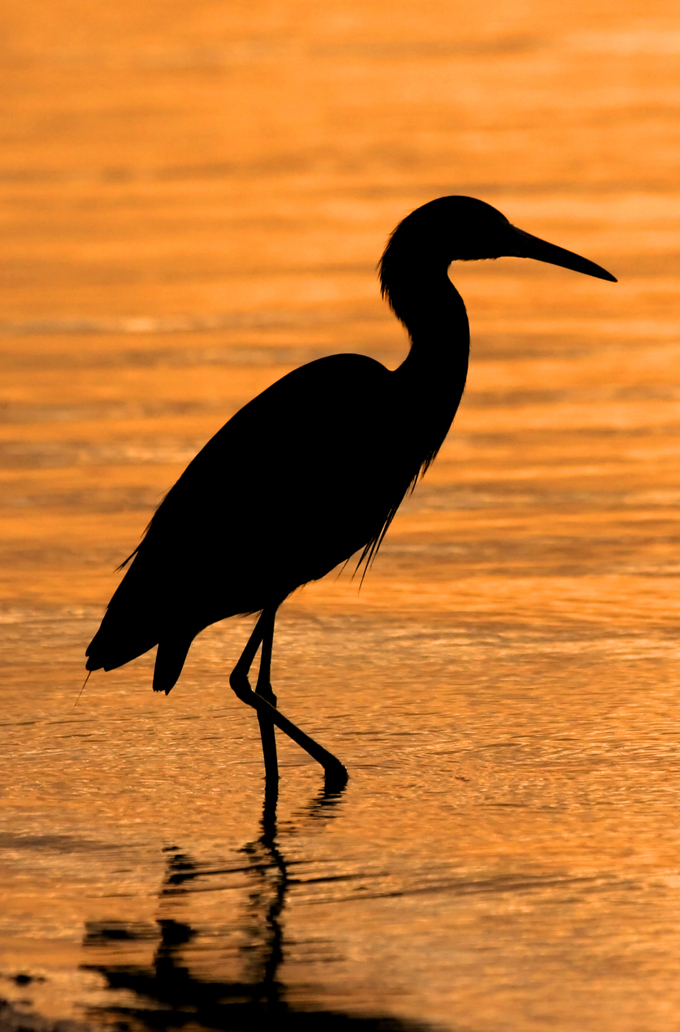heron: (76, 184, 621, 832)
